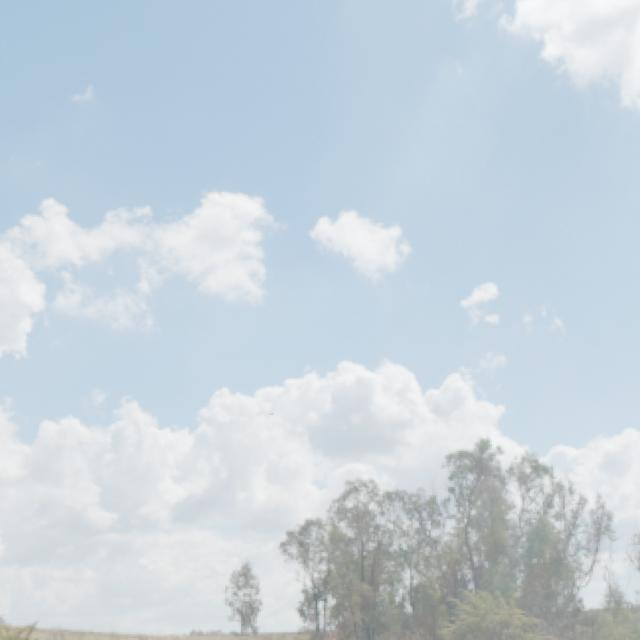Airaplan: (268, 413, 275, 415)
